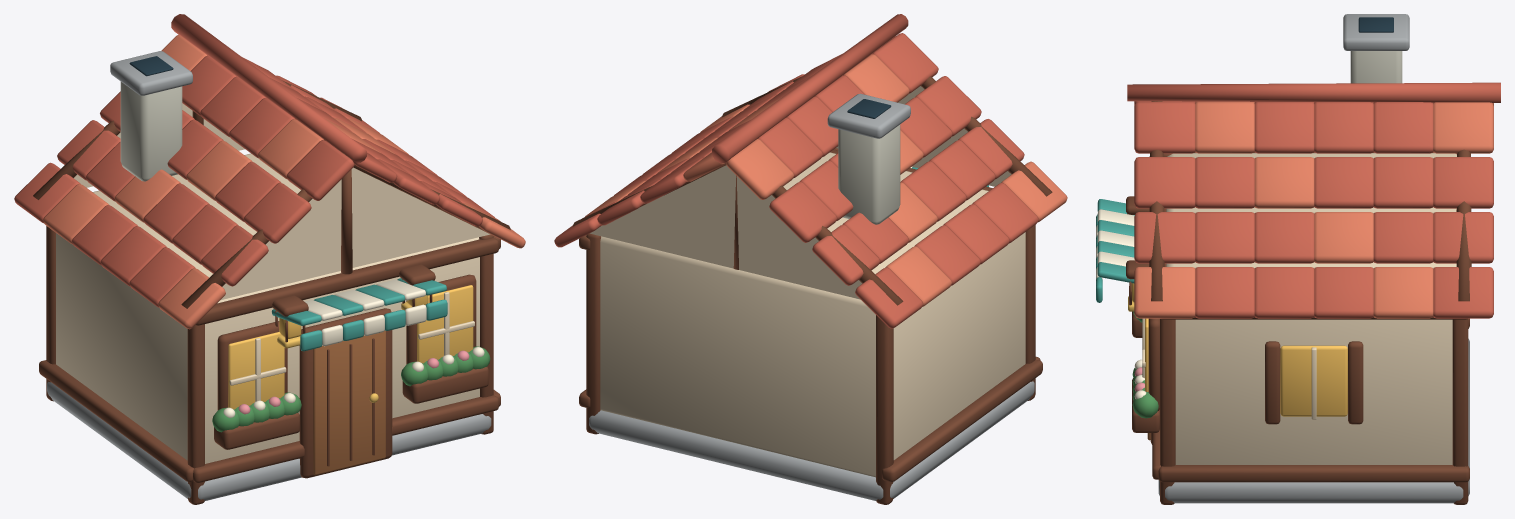
Rendered from village_shop.glb.
3 renders of one model, left to right at view 1: azimuth 30°, elevation 25°; view 2: azimuth 150°, elevation 25°; view 3: azimuth 270°, elevation 25°, orthographic. The views are drawn at different scales.
Visible parts, largest first — view 1: village_shop_mesh; view 2: village_shop_mesh; view 3: village_shop_mesh.
Part boxes in pixels (x1,y1,x2,y2): village_shop_mesh: (14, 14, 525, 504); village_shop_mesh: (554, 14, 1067, 504); village_shop_mesh: (1096, 14, 1500, 504).
Size of the model in its own units: 3.92 by 3.85 by 3.9.
